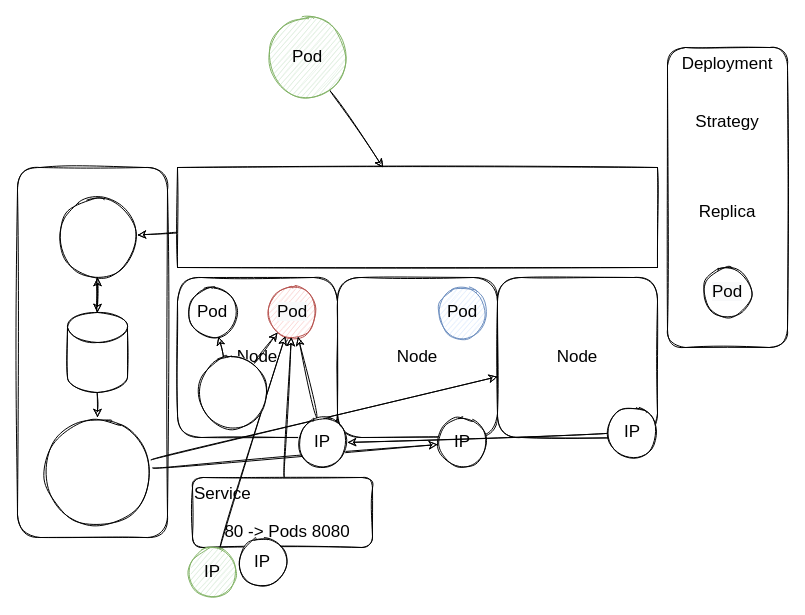
The diagram is 805 pixels wide and 615 high, and some of its shapes have lost their labels. The shapes that lost their labels are listed below. From the top down, each one's centre as x and y in pixels, then its label:
(97,237): Scheduler
(417,217): Kubernetes API
(97,352): ETCD
(232,392): Kube Proxy
(97,472): Controller-Manager Controllers
